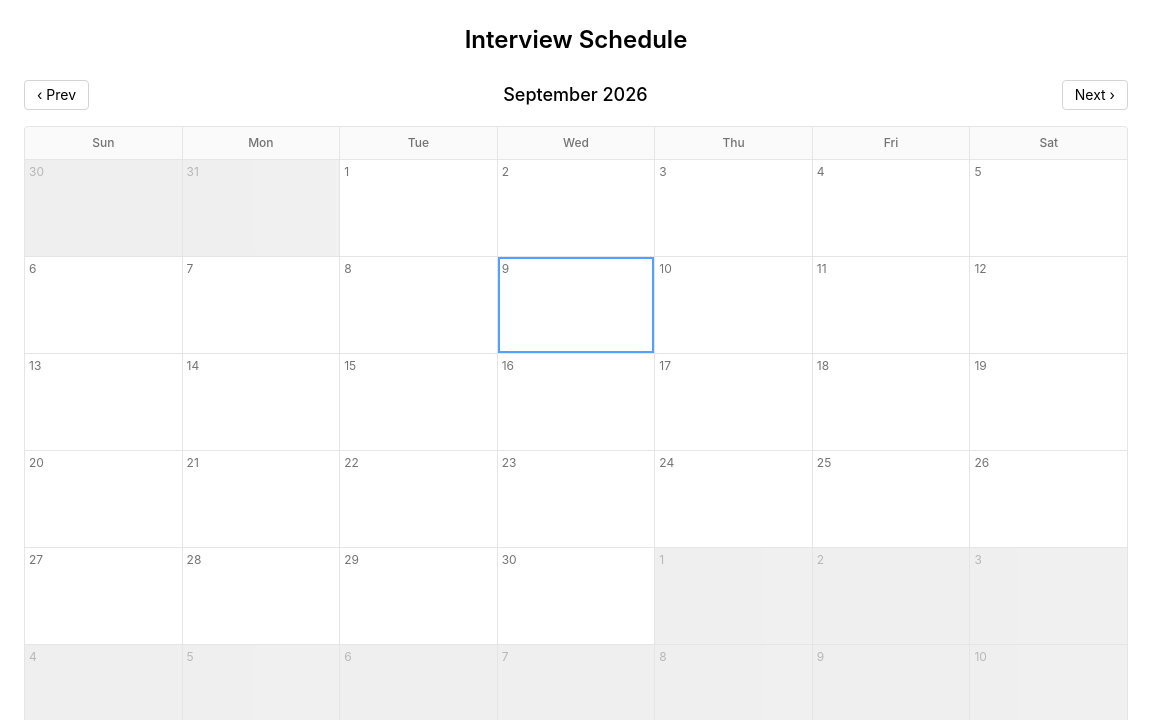
CalendarPage › clicking an empty day opens the create-interview modal
The width and height of the screenshot is (1152, 720).
Click the 1st cell "9": (576, 305) [498,257,654,353]
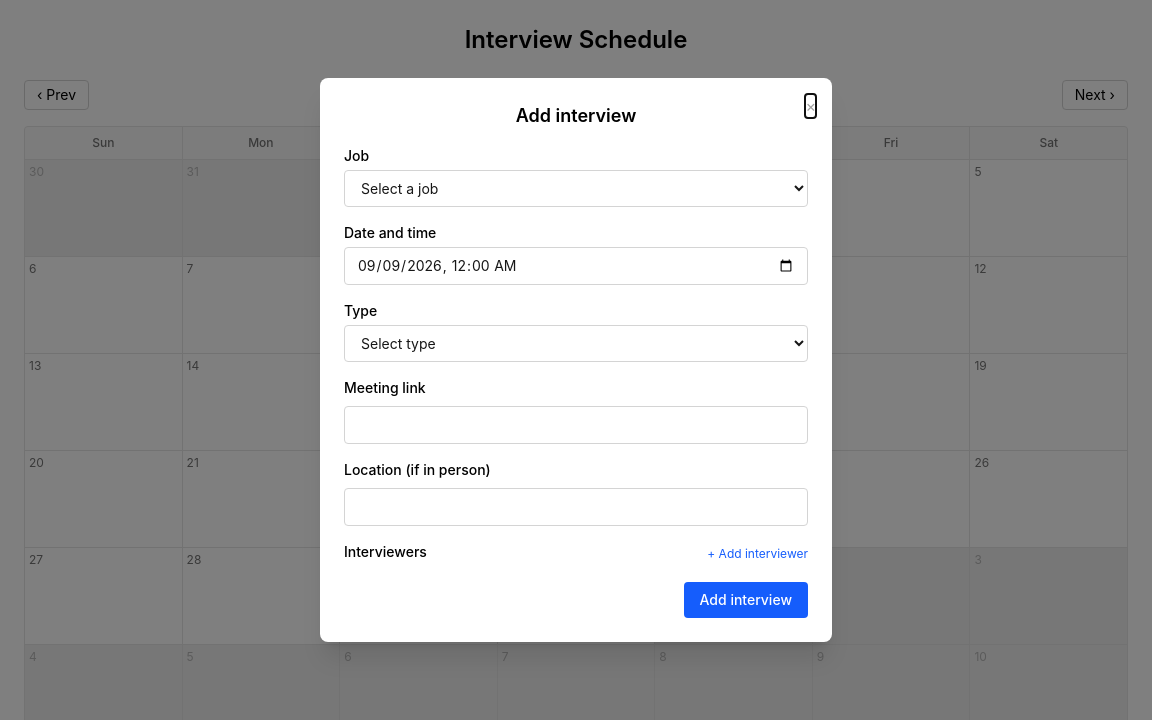
Check: the dialog is shown, box [320,78,832,642]
Check: the dropdown labelled "Job" is shown, box [344,170,808,207]
